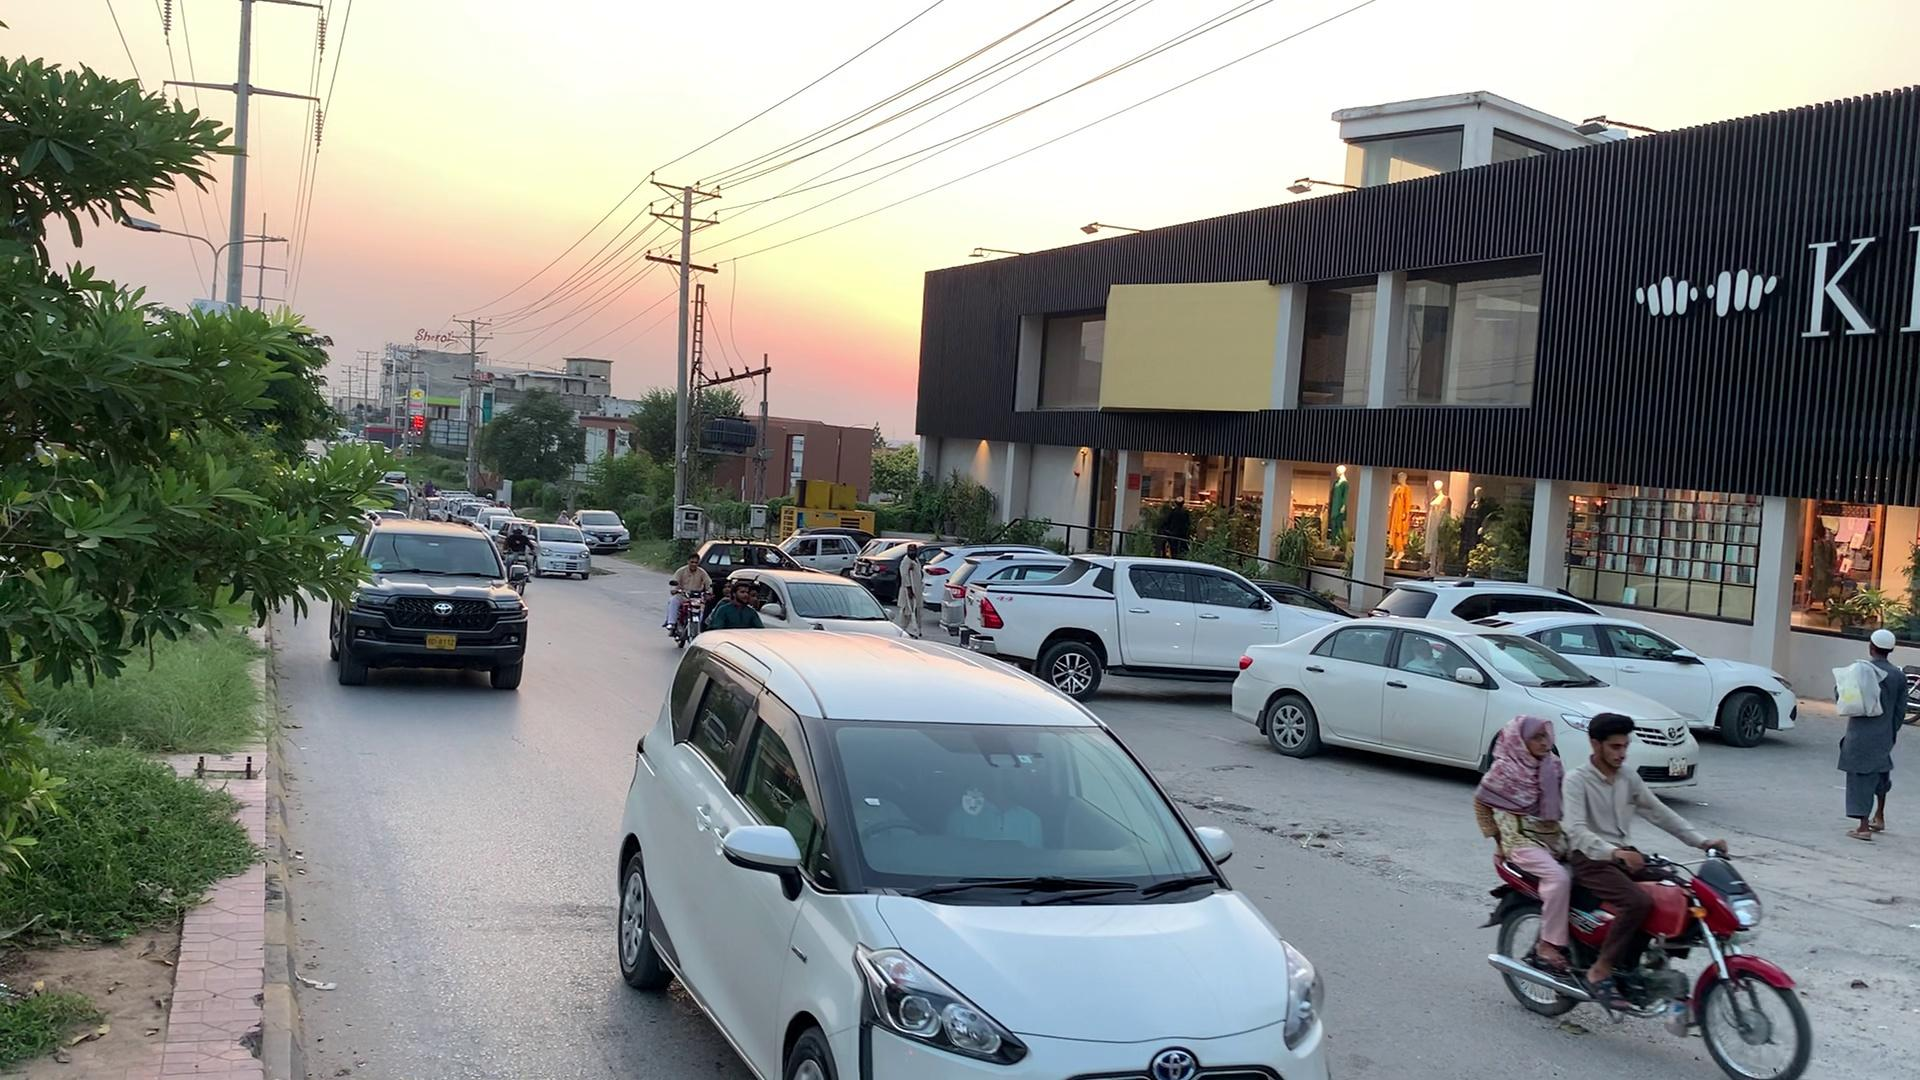windshield: (807, 683, 1257, 927)
